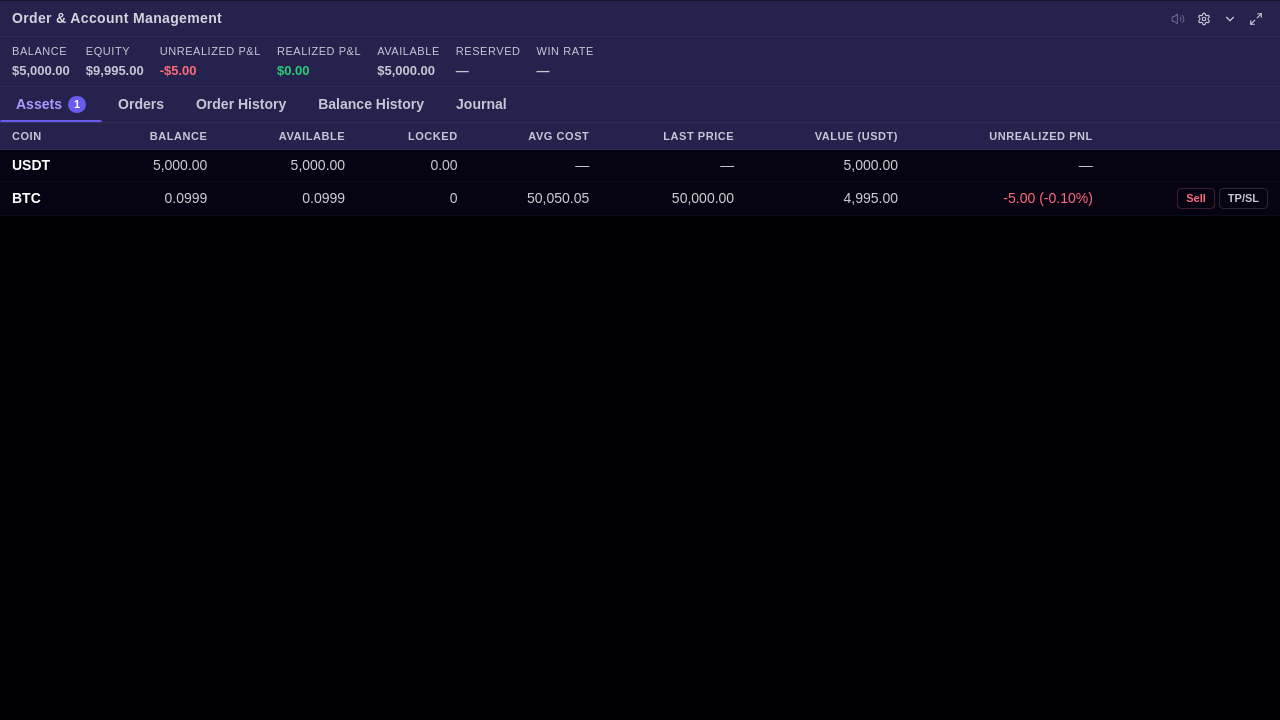
it: SpotExitsModal — Assets → TP / SL (14.6.7) › [14.6.7] should send the chosen quantity and TP as one OCO request and show the lock when confirmed
Step 1. Click the button "TP/SL" → click(1243, 198), box left=1219, top=188, right=1268, bottom=209
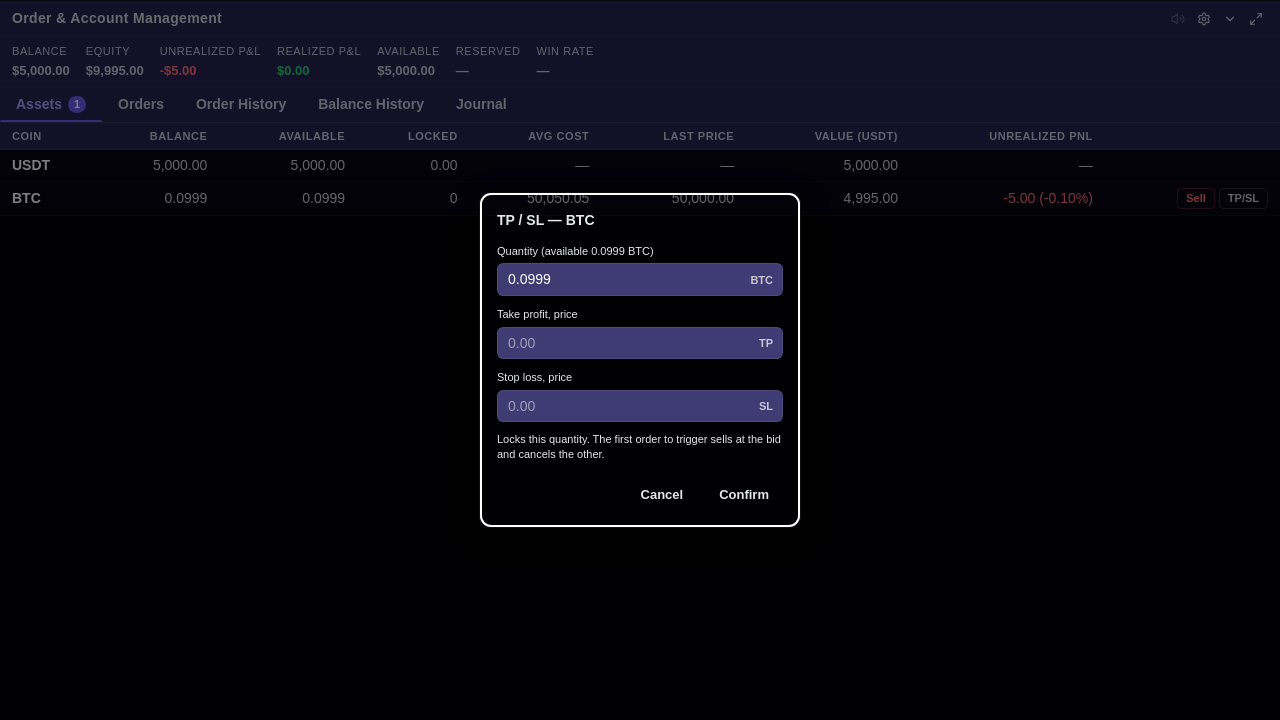
Step 2. Replace the text in the number field named "Quantity" with "0.05" → (640, 280), box left=497, top=263, right=783, bottom=296
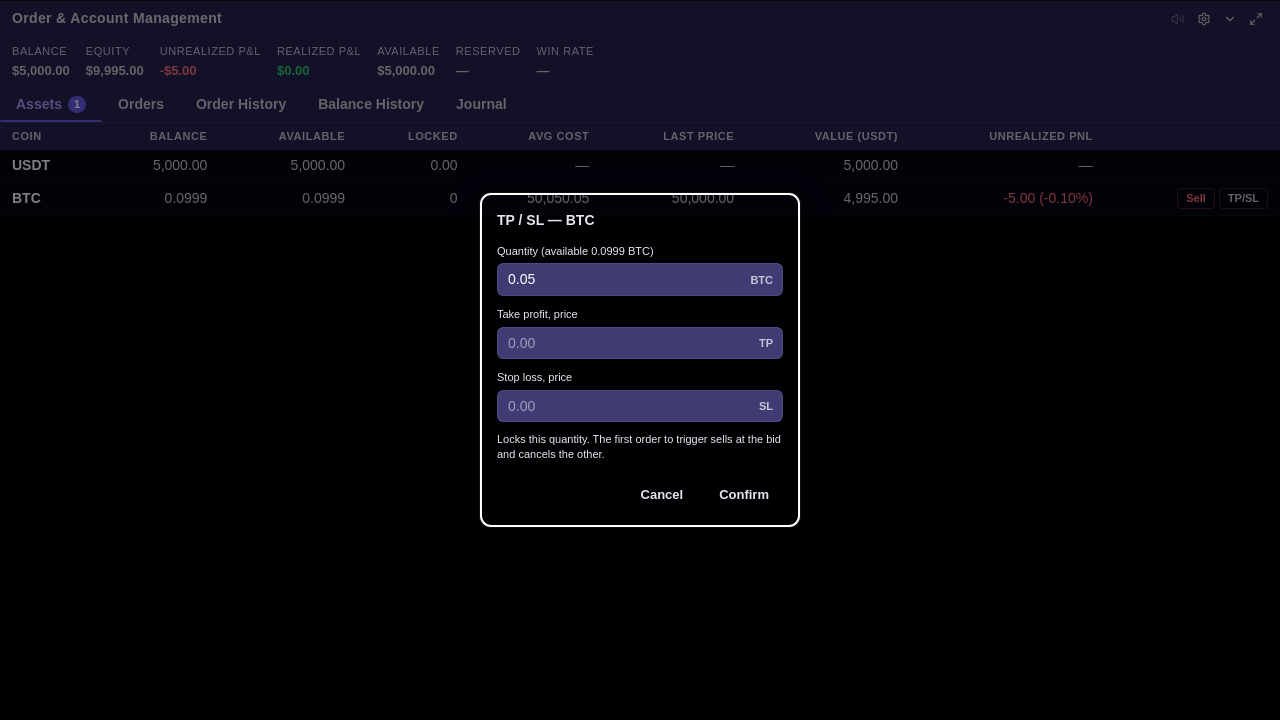
Step 3. Type "52000" into the number field named "Take profit price" → (640, 343), box left=497, top=326, right=783, bottom=359
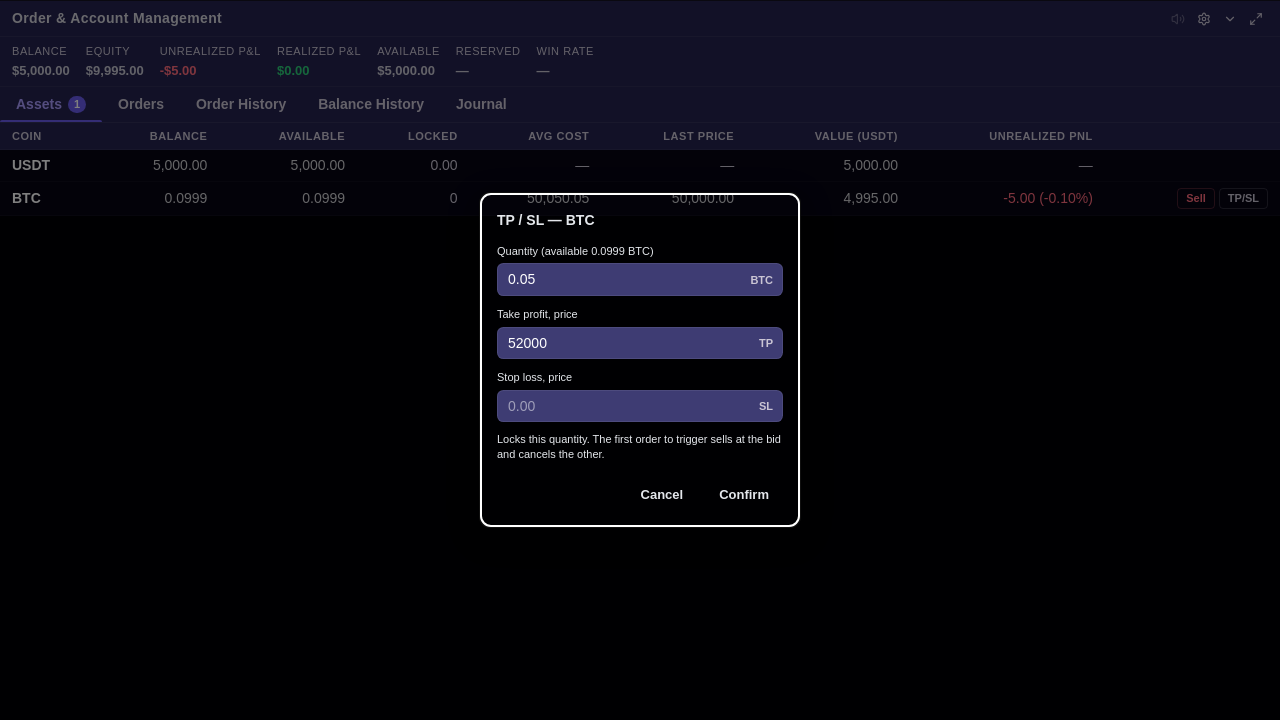
Step 4. Click the button "Confirm" → click(744, 494), box left=705, top=479, right=783, bottom=510
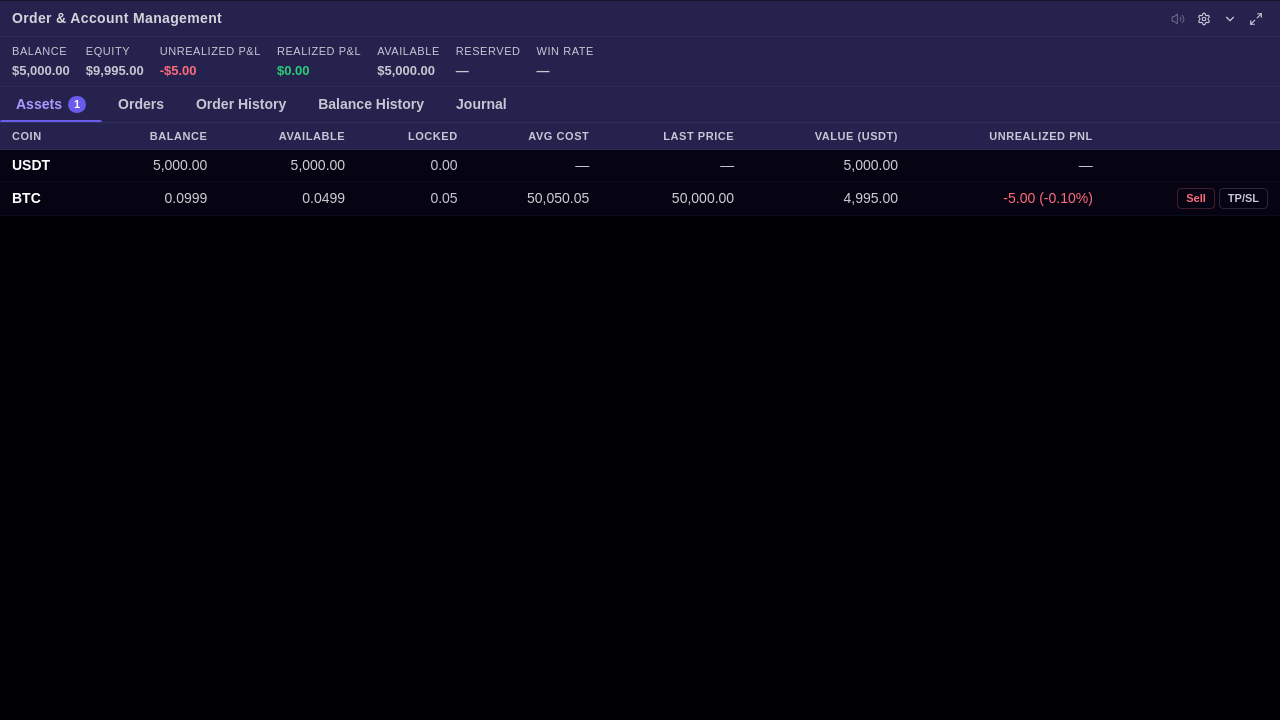
Now the dialog is gone
Now the cell "0.05" is shown, box left=357, top=182, right=470, bottom=215
Now the cell "0.0499" is shown, box left=219, top=182, right=357, bottom=215
